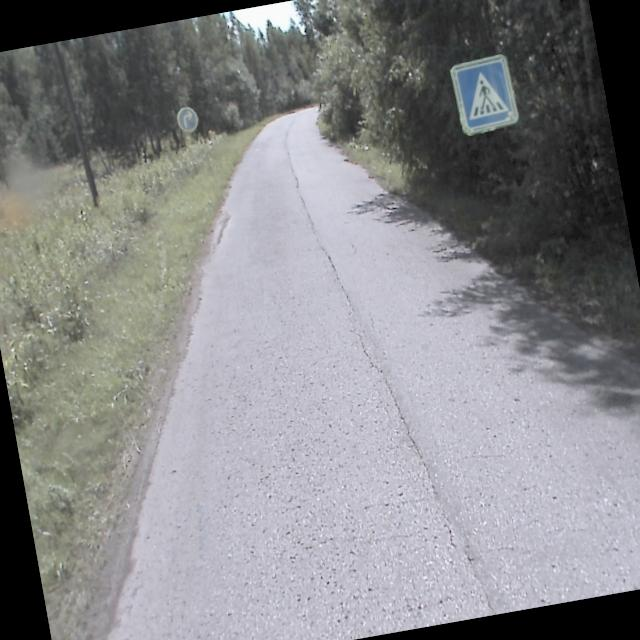road: (104, 105, 640, 640)
